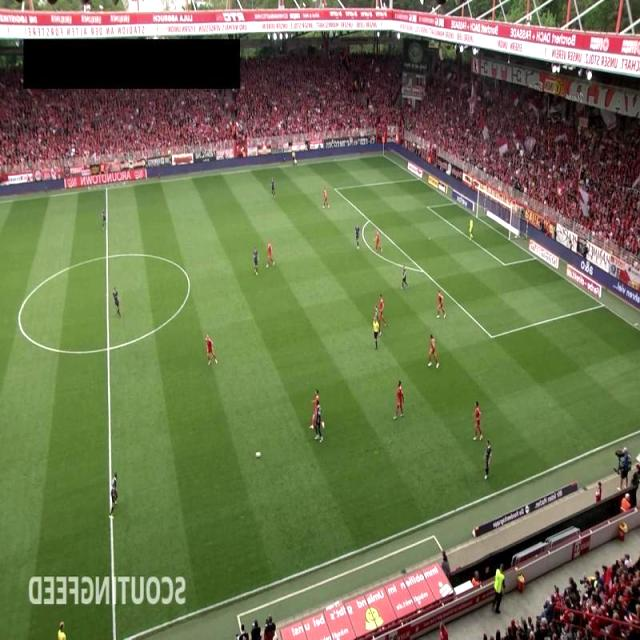bigarea_bottom_inner: (487, 331, 498, 342)
bigarea_bottom_outter: (598, 300, 608, 310)
bigarea_top_inner: (329, 182, 340, 194)
bigarea_top_outter: (414, 173, 425, 184)
bottom_arc_area_intersection: (418, 266, 429, 277)
corner: (377, 149, 388, 160)
halfcircle_bottom: (102, 342, 113, 352)
halfcircle_top: (101, 250, 112, 262)
midline_top_intersection: (101, 182, 112, 194)
smallarea_bottom_inner: (499, 258, 510, 270)
smallarea_bottom_outter: (530, 252, 542, 264)
smallarea_top_inner: (422, 202, 433, 212)
smallarea_top_outter: (451, 198, 462, 208)
top_arc_area_intersection: (364, 216, 374, 227)
